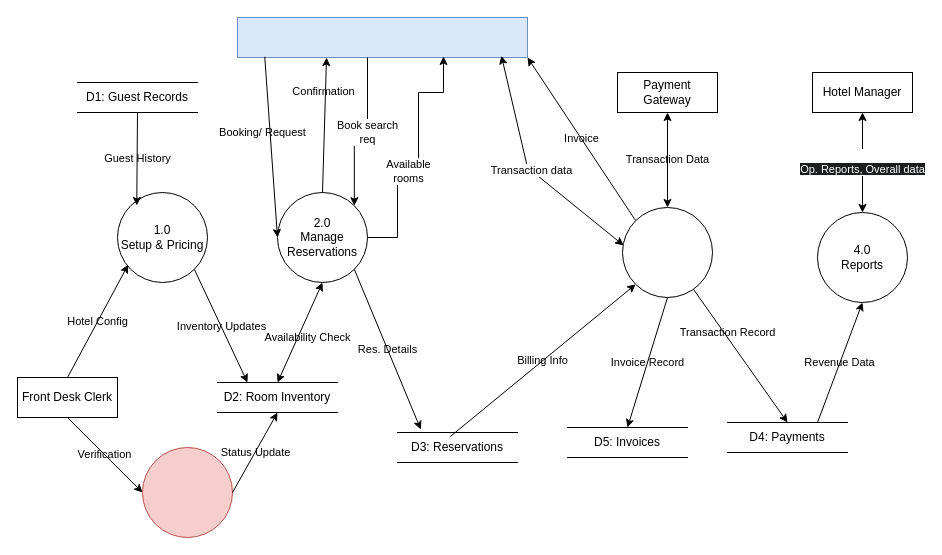
The diagram is 942 pixels wide and 555 high, and some of its shapes have lost their labels. The centre of each missing label's shape, as x and y in pixels:
"3.0 Process Payments" goes at pixel 667 252.
"5.0 Check-In/Out" goes at pixel 187 492.
"Customer" goes at pixel 382 37.
